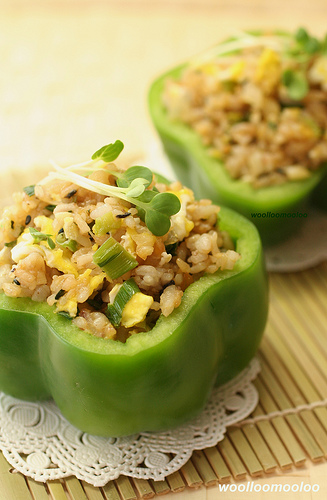capsicum: (0, 139, 269, 441), (142, 17, 325, 238)
